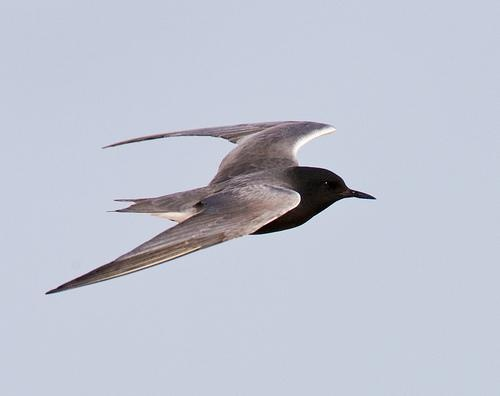bird: (38, 119, 378, 280)
